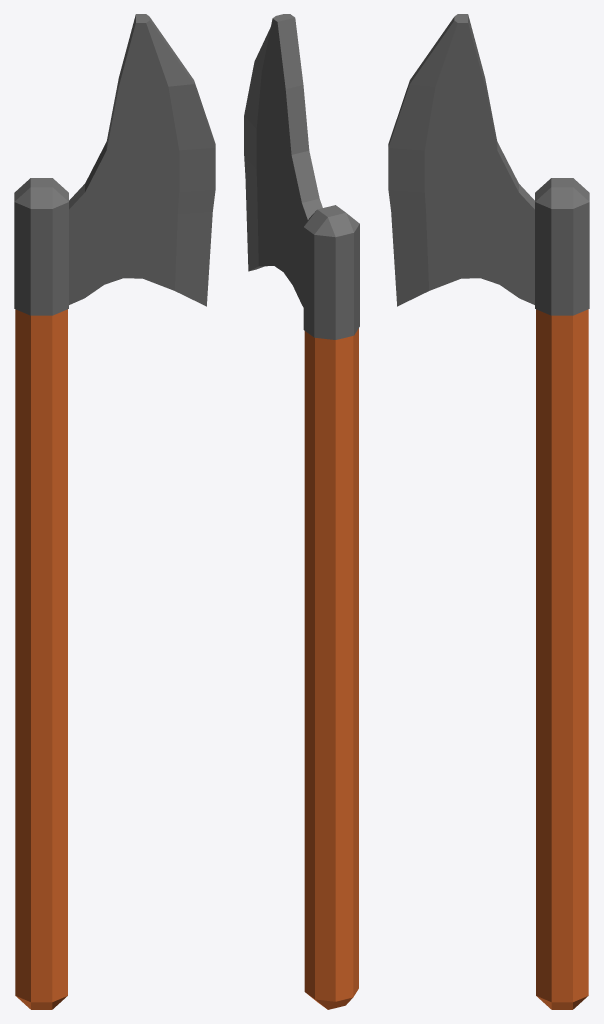
The model's file is WardersAxeFBX.fbx.
3 renders of one model, left to right at view 1: azimuth 90°, elevation 25°; view 2: azimuth 210°, elevation 25°; view 3: azimuth 270°, elevation 25°, orthographic. The views are drawn at different scales.
Parts seen in each view (by area): view 1: Cube, Cube.002, Cube.001; view 2: Cube, Cube.002, Cube.001; view 3: Cube, Cube.002, Cube.001.
Part boxes in pixels (box(x1,y1,x2,y2)): Cube: box(15, 309, 67, 1009); Cube.002: box(69, 14, 215, 306); Cube.001: box(14, 178, 68, 315); Cube: box(304, 328, 358, 1009); Cube.002: box(244, 14, 322, 307); Cube.001: box(303, 205, 359, 339); Cube: box(536, 309, 588, 1009); Cube.002: box(388, 14, 534, 306); Cube.001: box(535, 178, 589, 315).
Bounding box in the file's own units: 8.73 × 174 × 32.16.
